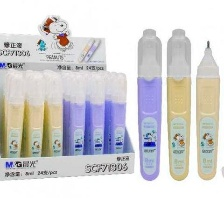book: (0, 12, 137, 182)
correction_fluid: (136, 28, 162, 183), (165, 28, 191, 181), (195, 38, 220, 181), (2, 71, 27, 171), (107, 71, 128, 170), (65, 72, 85, 171), (45, 73, 65, 171), (26, 74, 44, 169), (87, 72, 104, 170)
